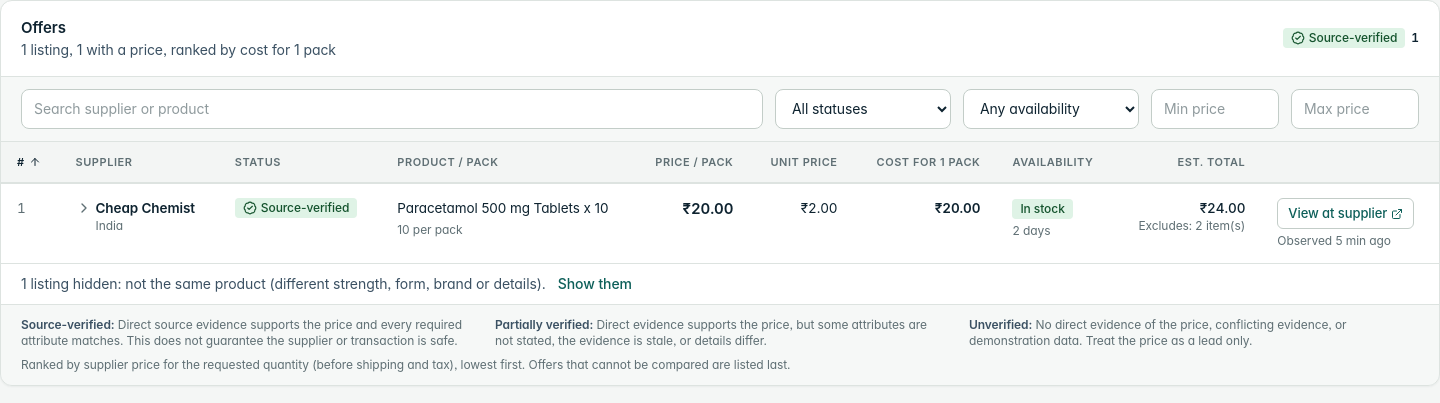
OffersSection › keeps rejected offers out of the list until asked for in the status filter
Expected: the text "Wrong Strength Ltd" is not shown
Select "Rejected (1)" in the dropdown named "Status" at [863, 108], box left=775, top=88, right=951, bottom=128
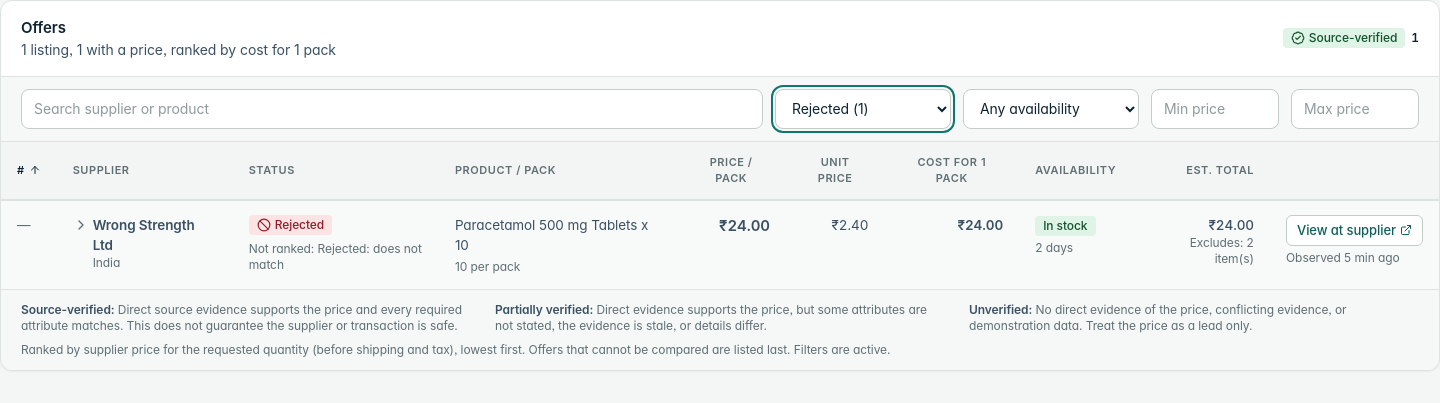
Now the text "Wrong Strength Ltd" is shown, box left=93, top=216, right=194, bottom=253
Now the button "Cheap Chemist" is gone
